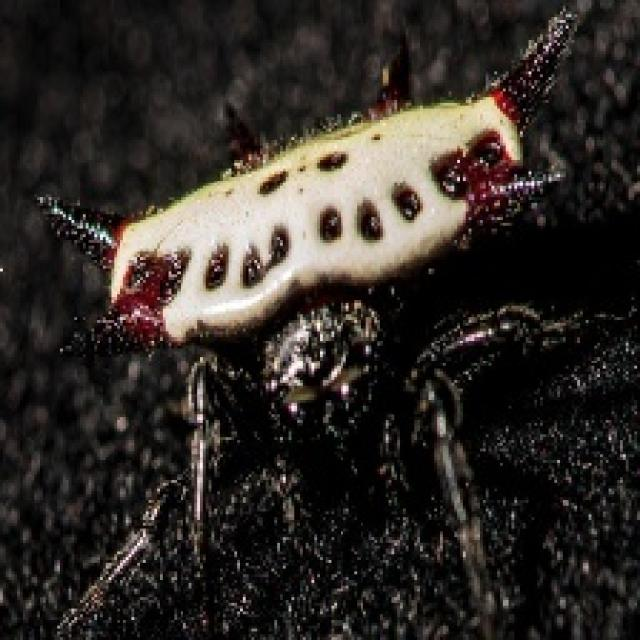Non venomous spider: (33, 11, 595, 563)
